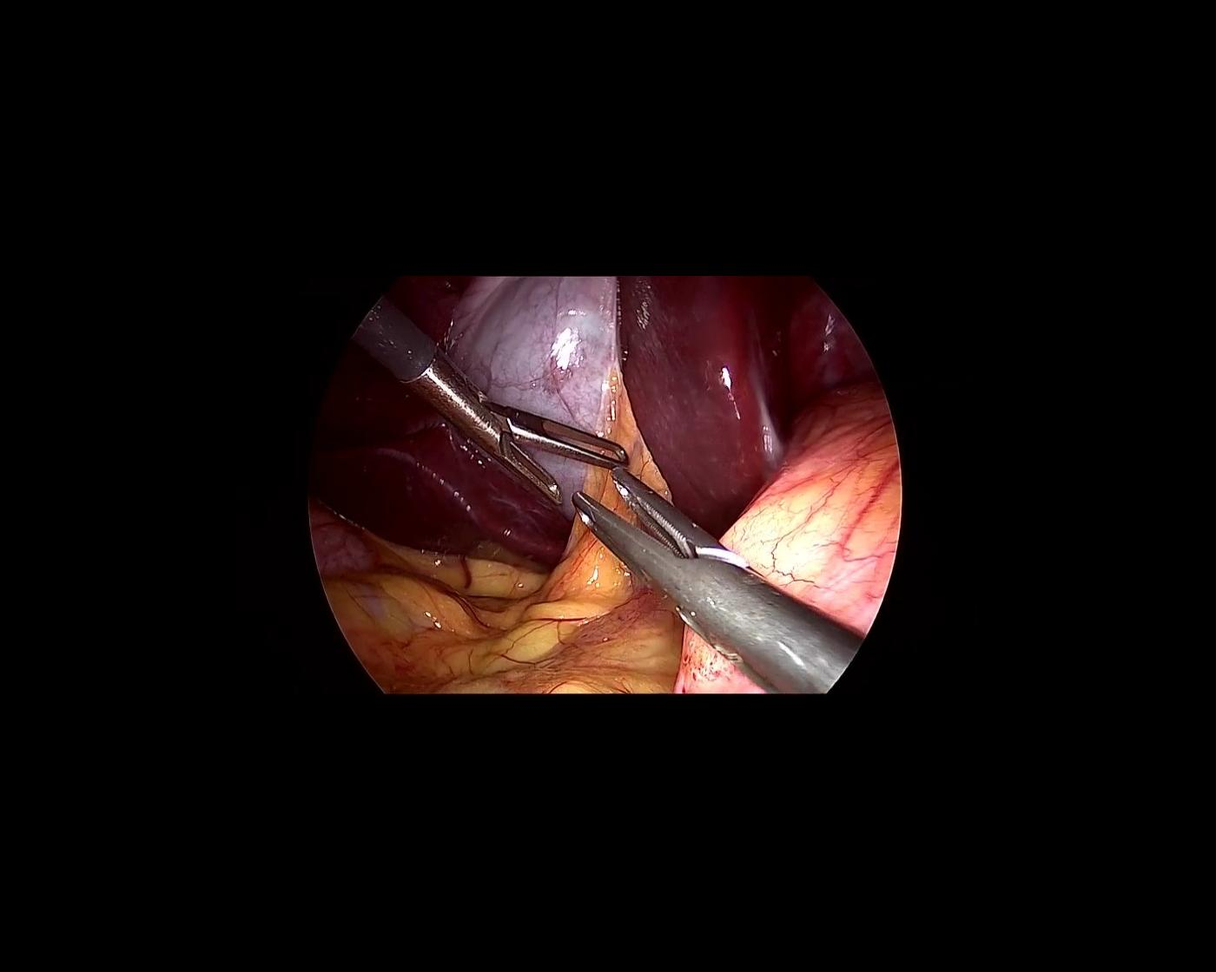Forceps: (543, 450, 865, 721), (334, 295, 638, 529)
Gallbladder: (430, 258, 618, 520)
Liver: (575, 197, 907, 545), (262, 339, 582, 640)
